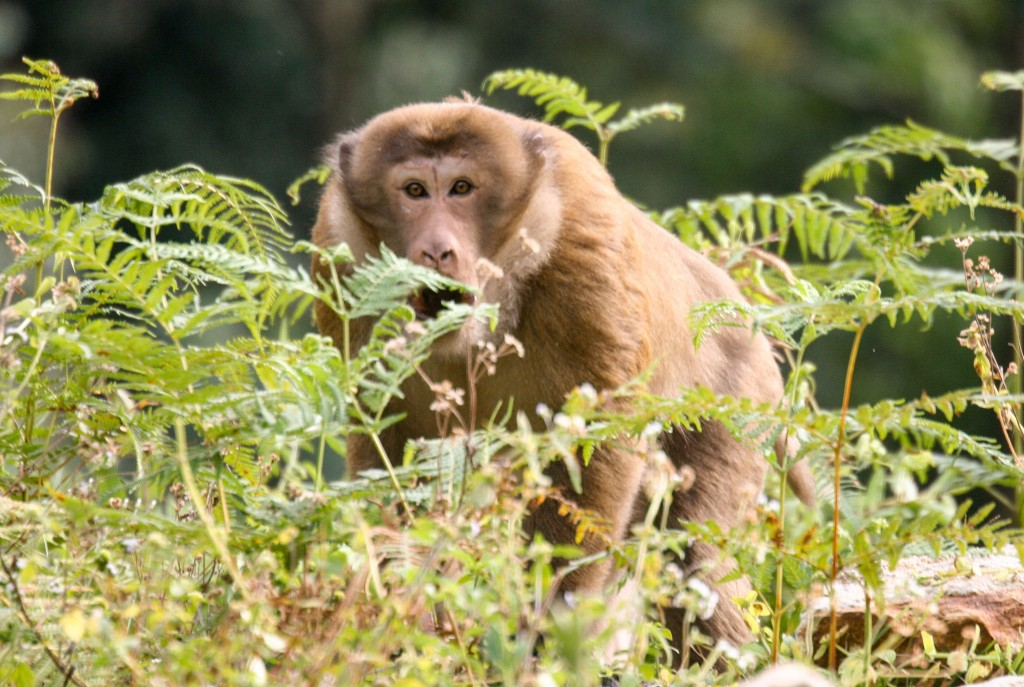monkey: (256, 93, 820, 668)
